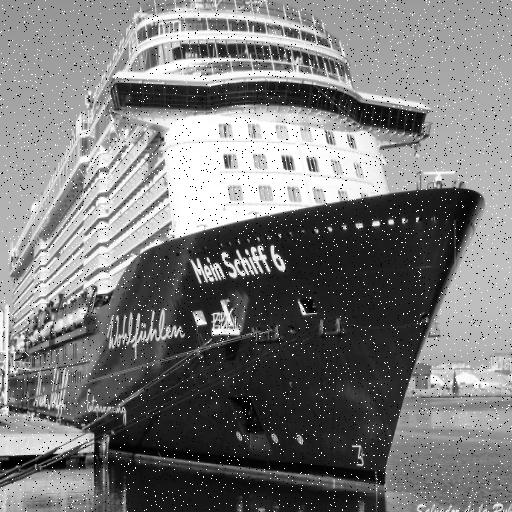cruises: (5, 1, 490, 506)
